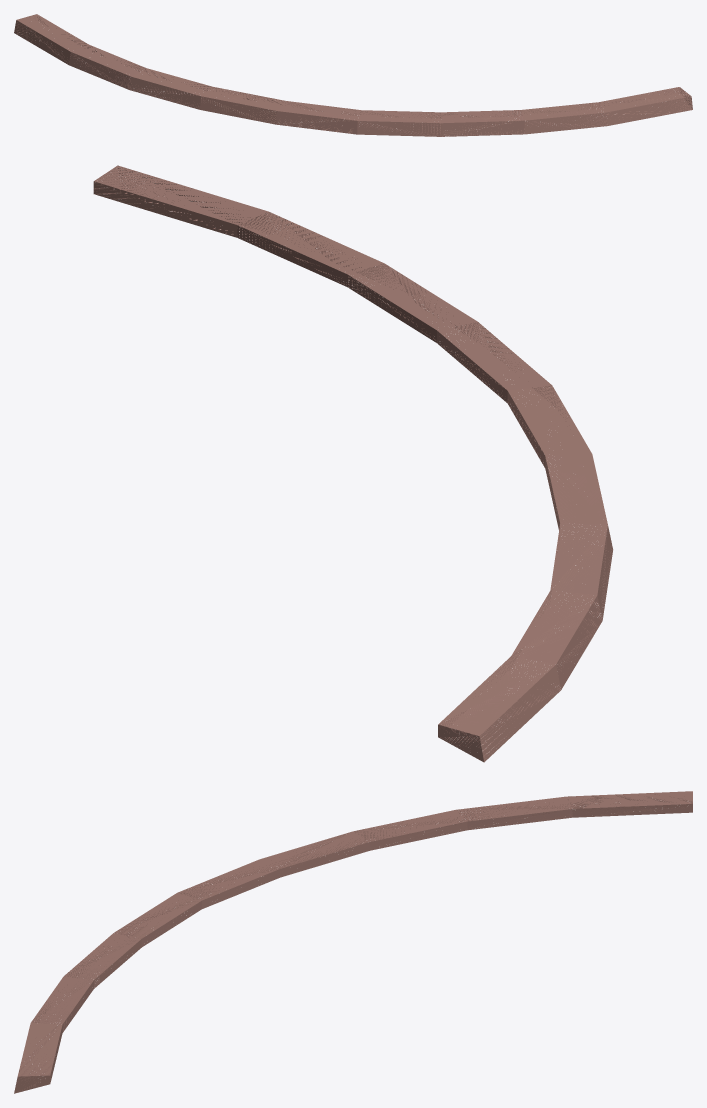
Rendered from SW_ENV_EL_TrackBase_Walkway_SingleOuter_Side_A_Collision.fbx.
The picture shows the model from 3 angles, top to bottom: view 1: azimuth 30°, elevation 25°; view 2: azimuth 150°, elevation 25°; view 3: azimuth 270°, elevation 25°; orthographic projection. The views are drawn at different scales.
Parts seen in each view (by area): view 1: SW_ENV_EL_TrackBase_Walkway_SingleOuter_Side_A_Collision; view 2: SW_ENV_EL_TrackBase_Walkway_SingleOuter_Side_A_Collision; view 3: SW_ENV_EL_TrackBase_Walkway_SingleOuter_Side_A_Collision.
Boxes of the visible parts, box(x1,y1,x2,y2) form: SW_ENV_EL_TrackBase_Walkway_SingleOuter_Side_A_Collision: box(14, 14, 692, 136); SW_ENV_EL_TrackBase_Walkway_SingleOuter_Side_A_Collision: box(93, 165, 613, 762); SW_ENV_EL_TrackBase_Walkway_SingleOuter_Side_A_Collision: box(14, 791, 692, 1093).
Size of the model in its own units: 2805 by 83.5 by 2805.
